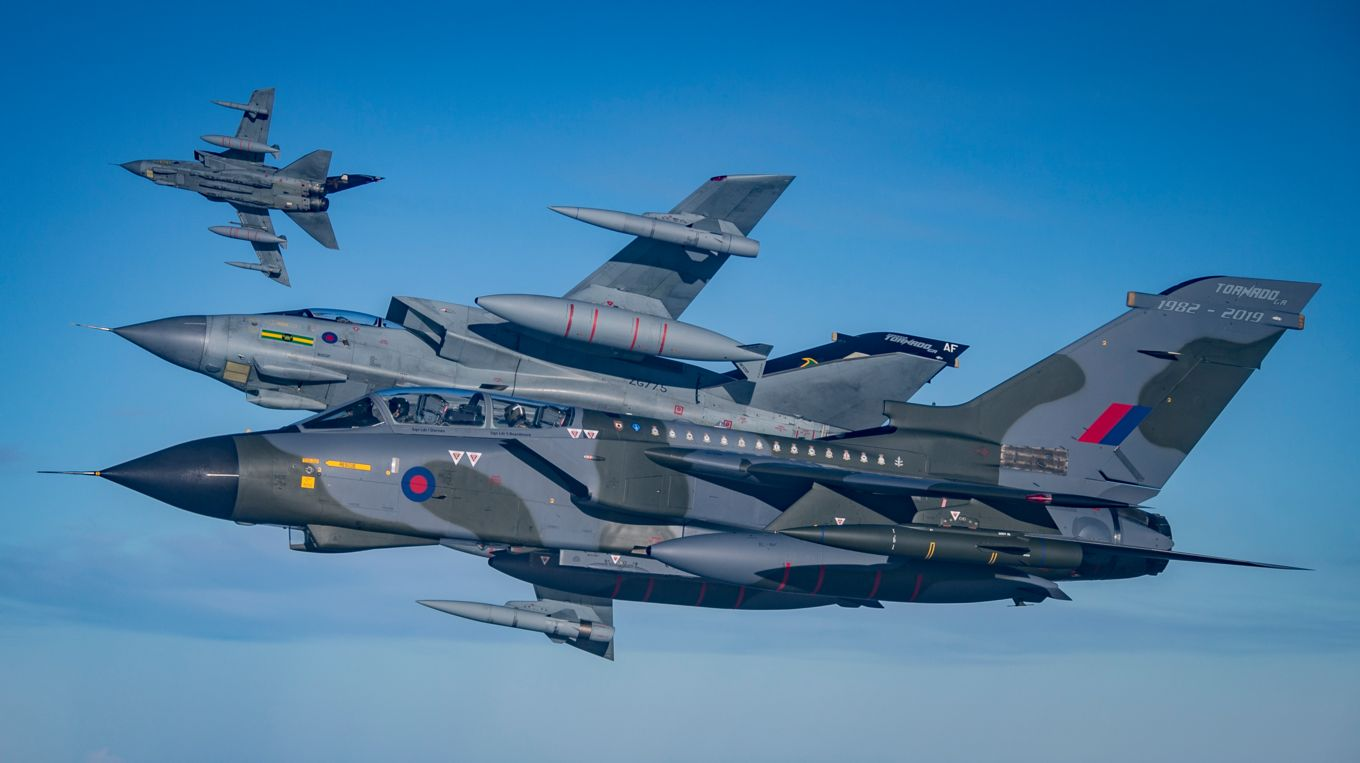Tornado: (71, 173, 971, 661), (35, 273, 1324, 611), (109, 87, 387, 288)
